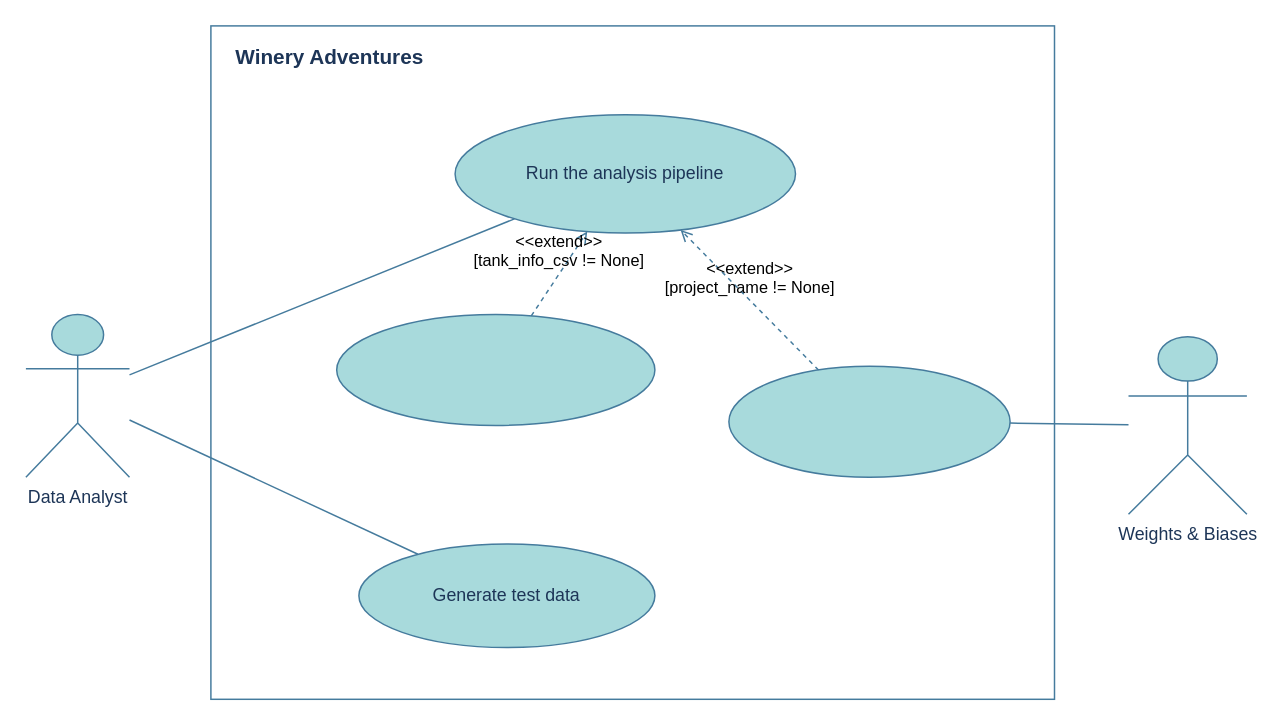
This 1283x725 diagram has some shape labels left out. Here are the shapes that lost their labels. From the top down, the box of each, then its label:
(335, 313, 655, 426): Include tank data
(727, 365, 1010, 477): Log metrics to W&B
